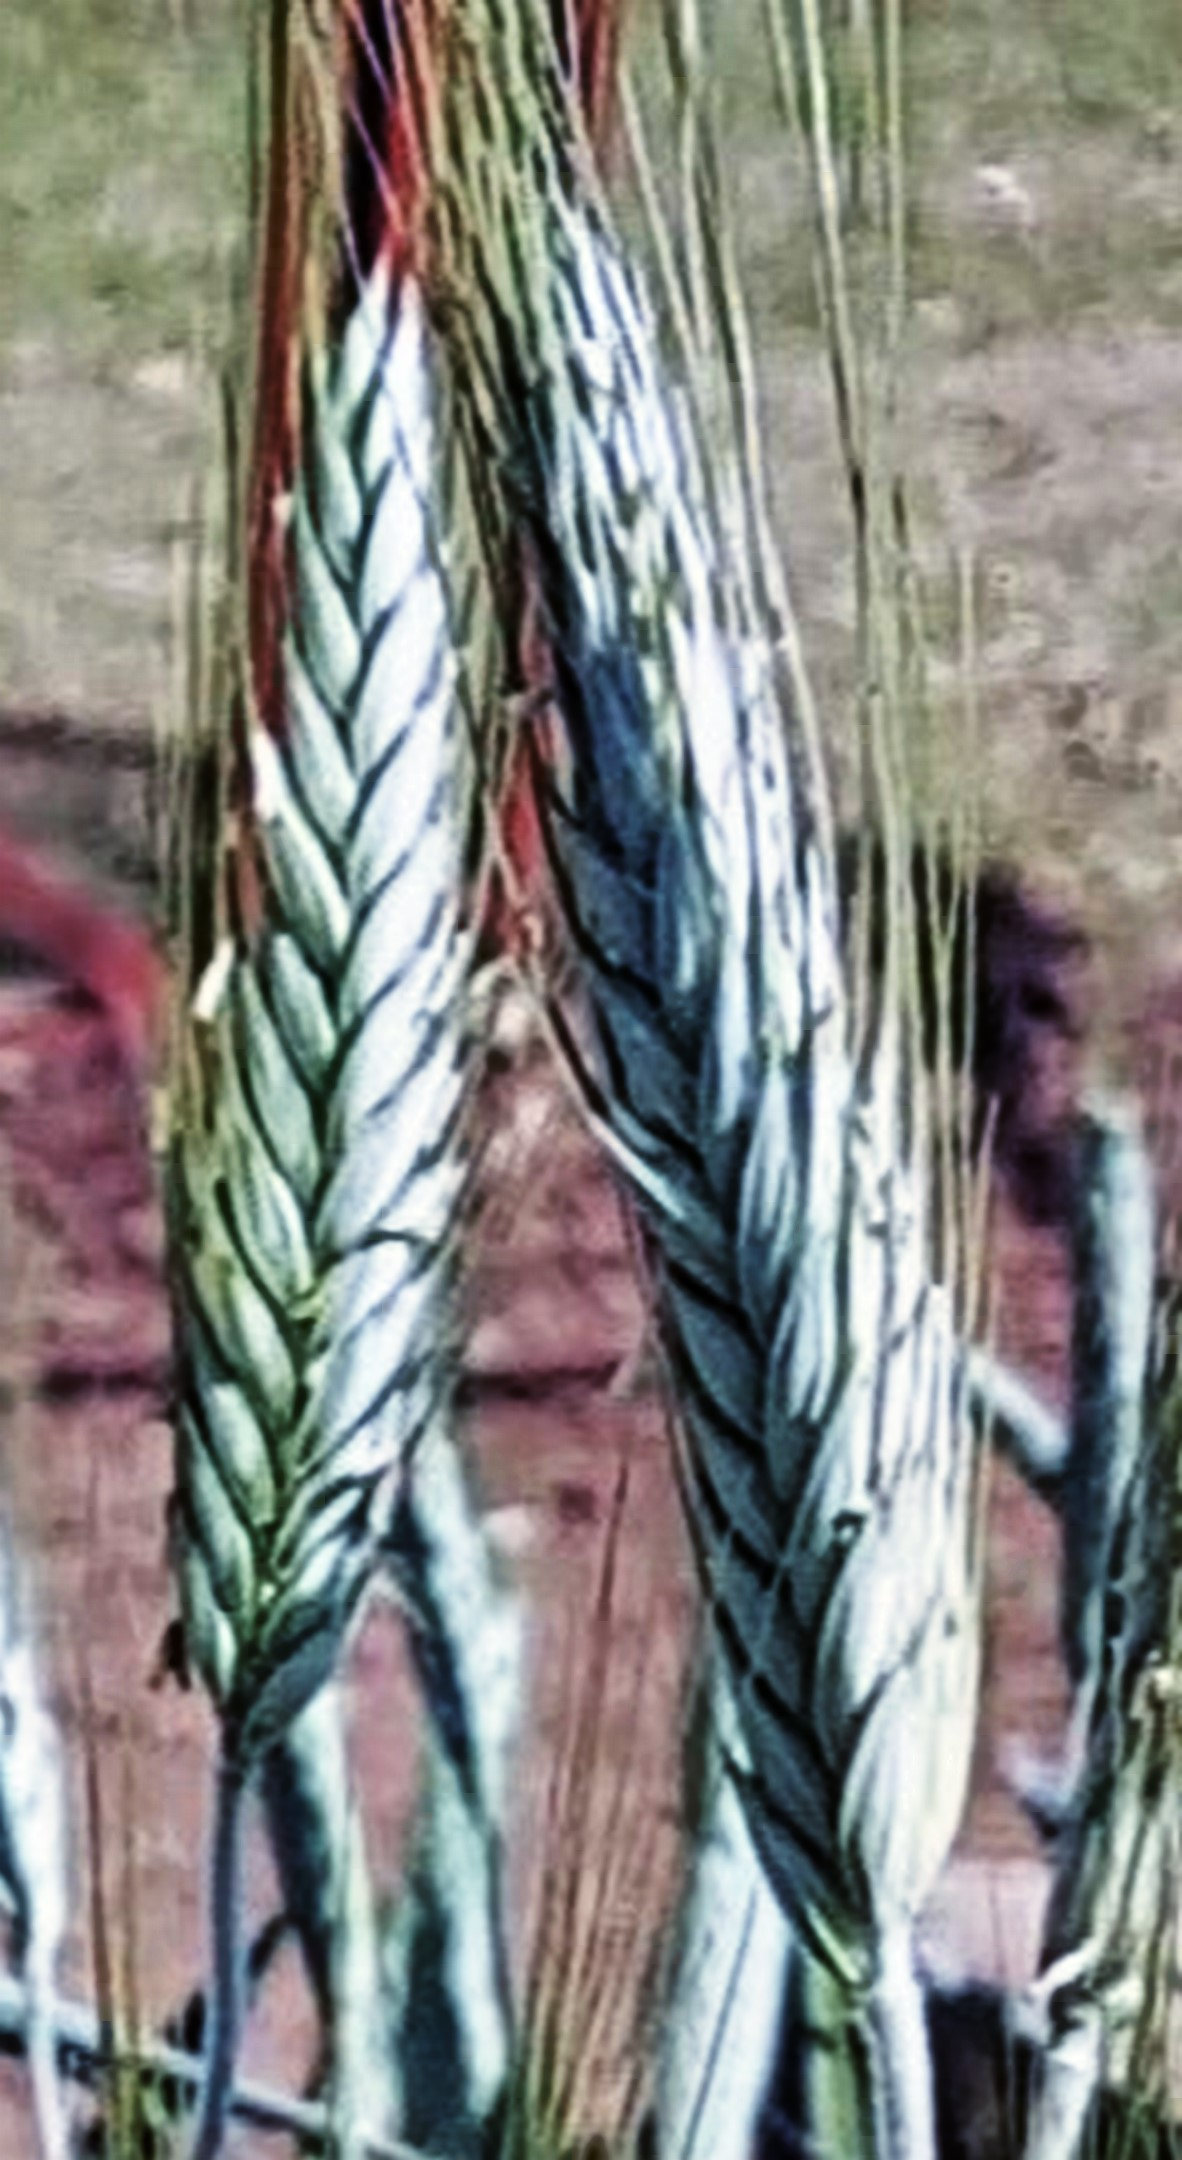Healthy Wheat: (148, 266, 464, 1718)
